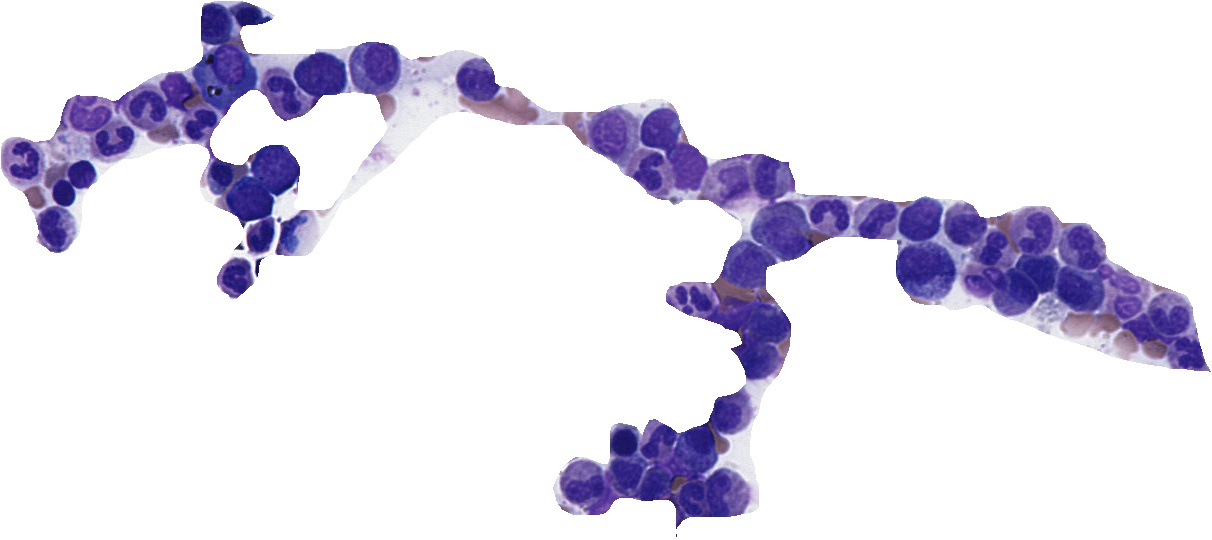objectness: (201, 48, 251, 98), (803, 190, 853, 240), (213, 251, 263, 301), (174, 98, 224, 148), (260, 66, 310, 116), (633, 417, 683, 467), (967, 225, 1017, 275), (124, 78, 174, 128), (665, 474, 715, 524), (624, 147, 674, 197), (90, 116, 140, 166), (667, 276, 717, 326), (723, 241, 773, 291), (755, 207, 805, 257), (454, 54, 504, 104), (350, 40, 400, 90), (989, 268, 1039, 318), (1058, 223, 1108, 273), (31, 202, 81, 252), (938, 199, 988, 249), (701, 470, 751, 520), (555, 459, 605, 509), (1012, 205, 1062, 255), (744, 148, 794, 198), (850, 192, 900, 242), (704, 387, 754, 437), (1144, 292, 1194, 342), (60, 88, 110, 138), (902, 244, 952, 294), (958, 254, 1008, 304), (730, 337, 780, 387), (1116, 304, 1166, 354), (629, 458, 679, 508), (706, 291, 756, 341), (738, 298, 788, 348), (601, 450, 651, 500), (711, 157, 761, 207), (270, 211, 320, 261), (584, 108, 634, 158), (56, 148, 106, 198), (1099, 281, 1149, 331), (234, 211, 284, 261), (897, 194, 947, 244), (153, 62, 203, 112), (671, 421, 721, 471), (1098, 255, 1148, 305), (1054, 263, 1104, 313), (659, 140, 709, 190), (38, 172, 88, 222), (1015, 245, 1065, 295), (294, 49, 344, 99), (223, 175, 273, 225), (633, 101, 683, 151), (194, 151, 244, 201), (249, 142, 299, 192), (598, 419, 648, 469), (1164, 330, 1212, 380), (0, 137, 46, 187), (188, 0, 238, 46)
